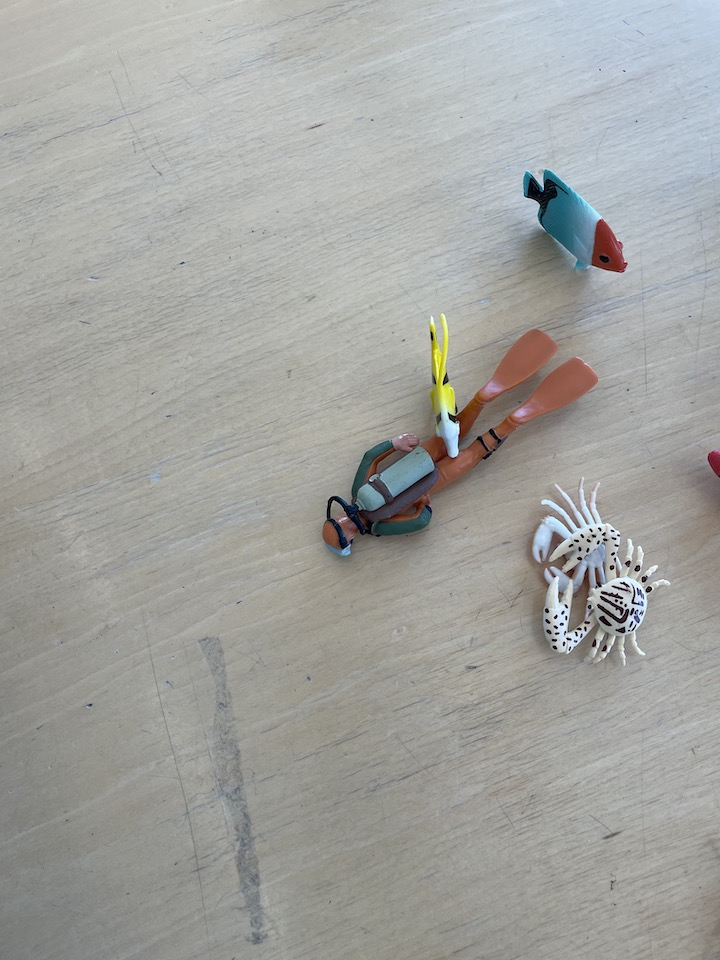crab: (545, 523, 675, 669), (530, 475, 631, 601)
danger: (421, 313, 465, 463)
diver: (318, 324, 600, 562)
fish: (520, 163, 630, 284), (702, 446, 720, 486)
